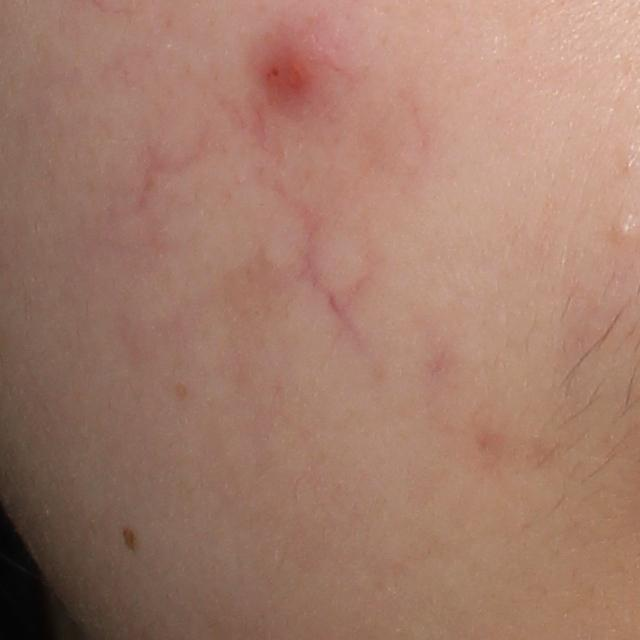comedo: (613, 217, 635, 241), (620, 156, 639, 173)
nevus: (119, 525, 140, 550)
other: (252, 111, 377, 364), (112, 103, 225, 224)
